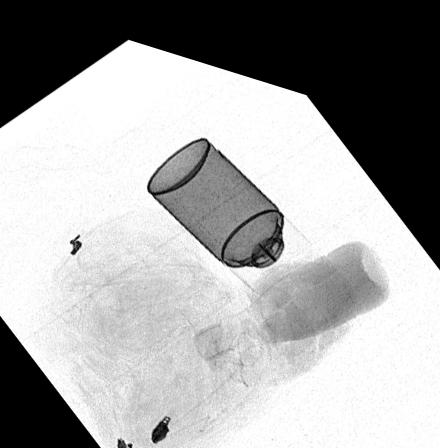Sprayer: (146, 124, 313, 281)
